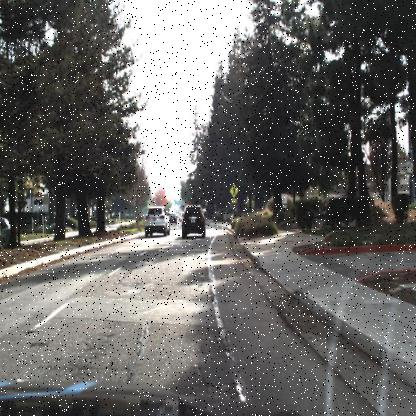car: (143, 204, 170, 240), (182, 204, 206, 238)
